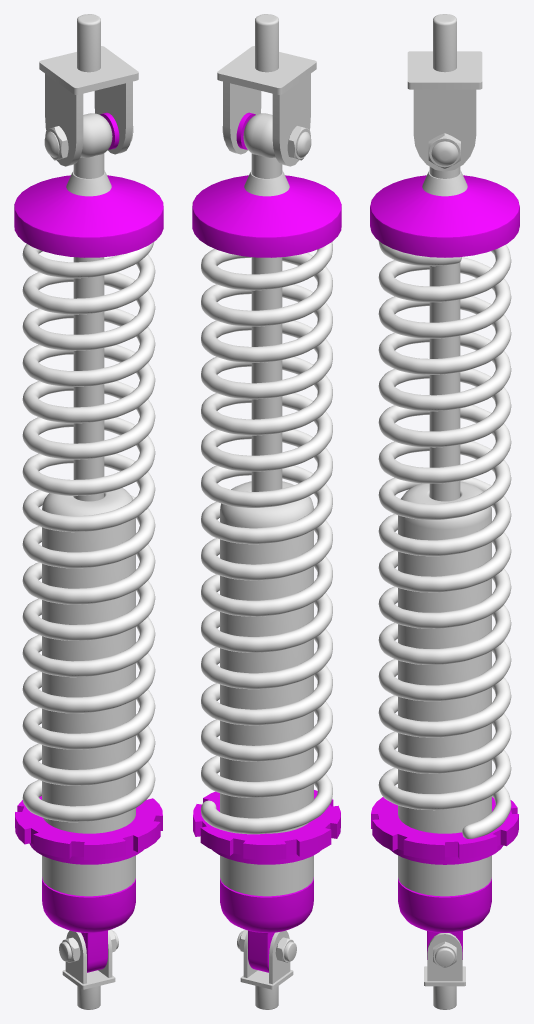
The model's file is coil_over.glb.
3 renders of one model, left to right at view 1: azimuth 30°, elevation 25°; view 2: azimuth 150°, elevation 25°; view 3: azimuth 270°, elevation 25°, orthographic.
Parts seen in each view (by area): view 1: Coil over; view 2: Coil over; view 3: Coil over.
Part boxes in pixels (x1,y1,x2,y2): Coil over: (14, 14, 163, 1009); Coil over: (192, 14, 341, 1009); Coil over: (370, 14, 519, 1009).
Size of the model in its own units: 0.0989 by 0.7191 by 0.0989.
